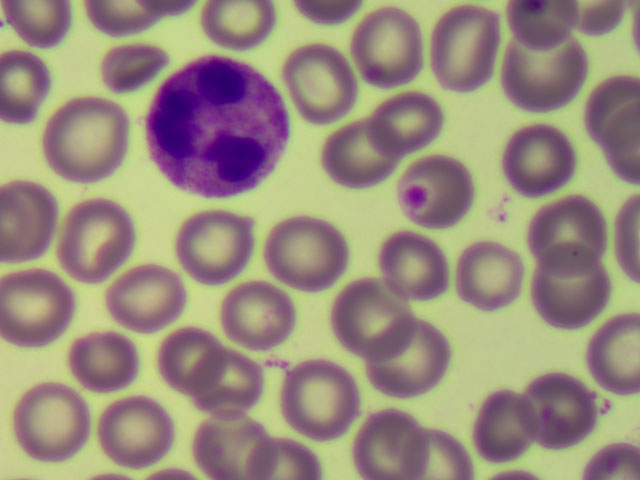Platelets: (407, 185, 425, 207), (519, 1, 545, 15)
RBC: (43, 99, 138, 182), (501, 22, 584, 115), (365, 317, 451, 401), (327, 279, 414, 358), (528, 197, 608, 282), (11, 383, 90, 459), (281, 361, 357, 440), (154, 318, 228, 399), (58, 197, 130, 279), (100, 264, 184, 334), (178, 208, 252, 286), (267, 215, 345, 289), (351, 406, 429, 480), (217, 283, 300, 351), (289, 46, 362, 123), (192, 408, 270, 480), (431, 7, 494, 96), (100, 397, 176, 467), (378, 232, 449, 305), (503, 124, 573, 197), (528, 375, 596, 448), (1, 271, 67, 346), (456, 240, 524, 310), (192, 356, 265, 421), (324, 125, 397, 190), (473, 390, 536, 463), (65, 334, 140, 394), (368, 94, 444, 153), (1, 183, 57, 263), (349, 7, 422, 67), (584, 72, 640, 148), (505, 1, 591, 48), (397, 425, 470, 480), (591, 318, 640, 395), (1, 51, 48, 127), (200, 1, 278, 45), (250, 432, 321, 480), (3, 1, 70, 51), (602, 97, 640, 184), (98, 41, 165, 90), (431, 153, 472, 229), (84, 1, 164, 32), (615, 199, 640, 288), (585, 446, 640, 480), (294, 1, 362, 28), (577, 1, 619, 37), (135, 1, 193, 17), (143, 467, 206, 480), (492, 467, 538, 480), (92, 470, 135, 480)
WBC: (147, 60, 292, 202)
